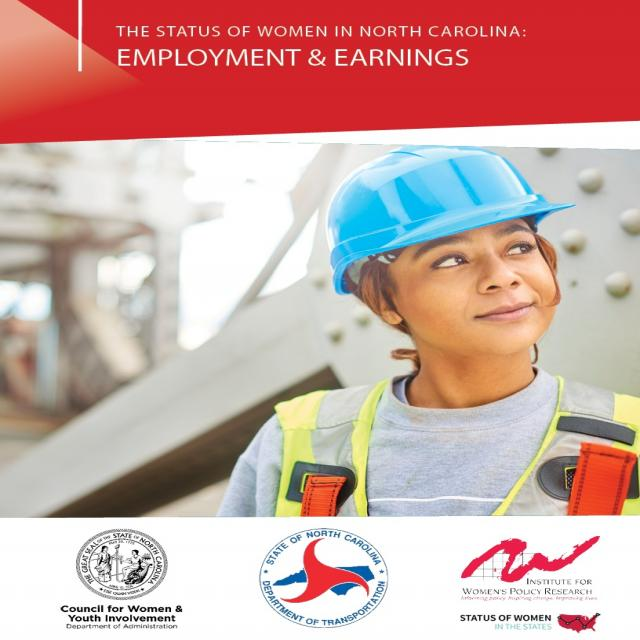Reflective-Jacket: (268, 374, 638, 516)
Safety-Helmet: (321, 146, 571, 269)
